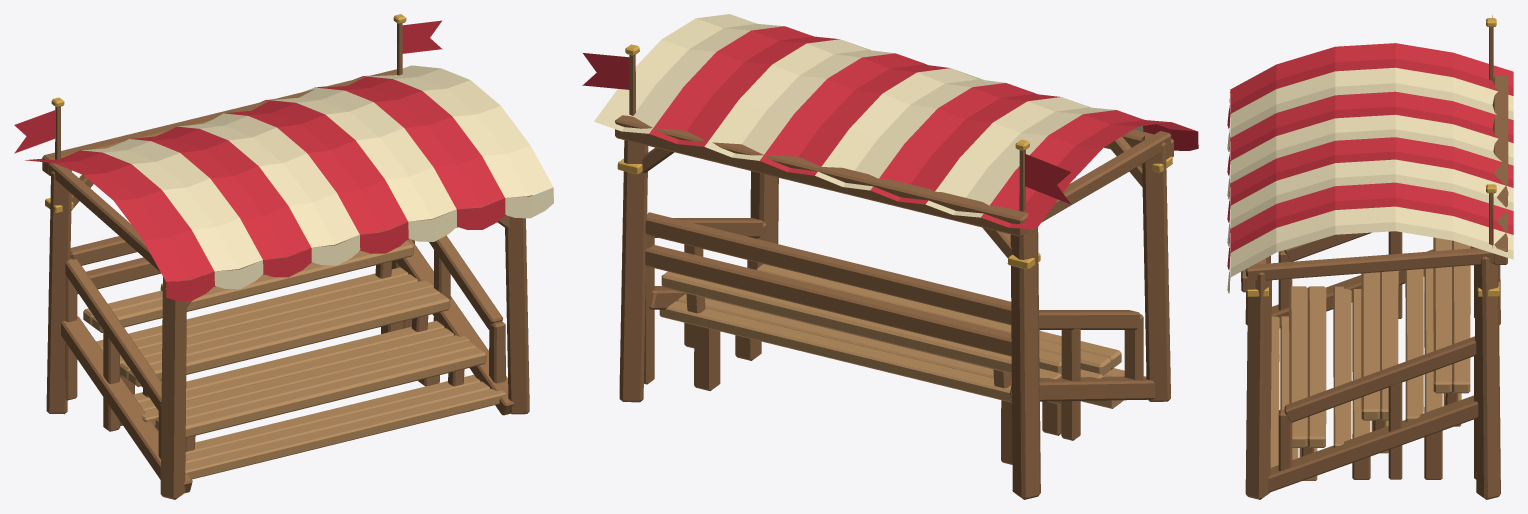
The model's file is WallRush_Festival_Stand_v1.glb.
3 renders of one model, left to right at view 1: azimuth 30°, elevation 25°; view 2: azimuth 150°, elevation 25°; view 3: azimuth 270°, elevation 25°, orthographic. The views are drawn at different scales.
Visible parts, largest first — view 1: Fabric_Mesh, Seating_Mesh, Timber_Mesh, Pennants_Mesh; view 2: Timber_Mesh, Fabric_Mesh, Seating_Mesh, Pennants_Mesh, Trim_Mesh; view 3: Fabric_Mesh, Timber_Mesh, Seating_Mesh, Pennants_Mesh, Trim_Mesh.
Boxes of the visible parts, x1,y1,x2,y2 form: Fabric_Mesh: [25, 65, 553, 300]; Seating_Mesh: [83, 240, 506, 479]; Timber_Mesh: [42, 69, 532, 499]; Pennants_Mesh: [14, 20, 442, 159]; Timber_Mesh: [615, 115, 1173, 499]; Fabric_Mesh: [594, 14, 1198, 229]; Seating_Mesh: [659, 264, 1144, 408]; Pennants_Mesh: [582, 53, 1070, 211]; Trim_Mesh: [617, 44, 1172, 269]; Fabric_Mesh: [1227, 43, 1513, 293]; Timber_Mesh: [1241, 76, 1508, 499]; Seating_Mesh: [1270, 237, 1470, 480]; Pennants_Mesh: [1489, 15, 1493, 247]; Trim_Mesh: [1246, 18, 1499, 296].
Size of the model in its own units: 3.76 by 2.6 by 2.18.
